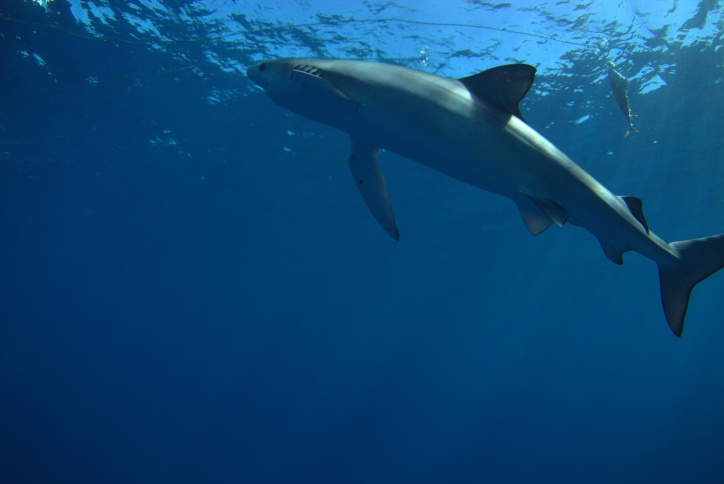Azul: (230, 20, 718, 358)
